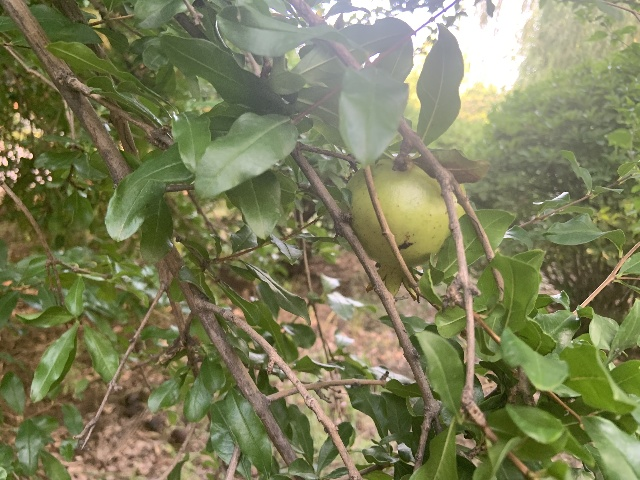mid-growth: (345, 158, 466, 301)
